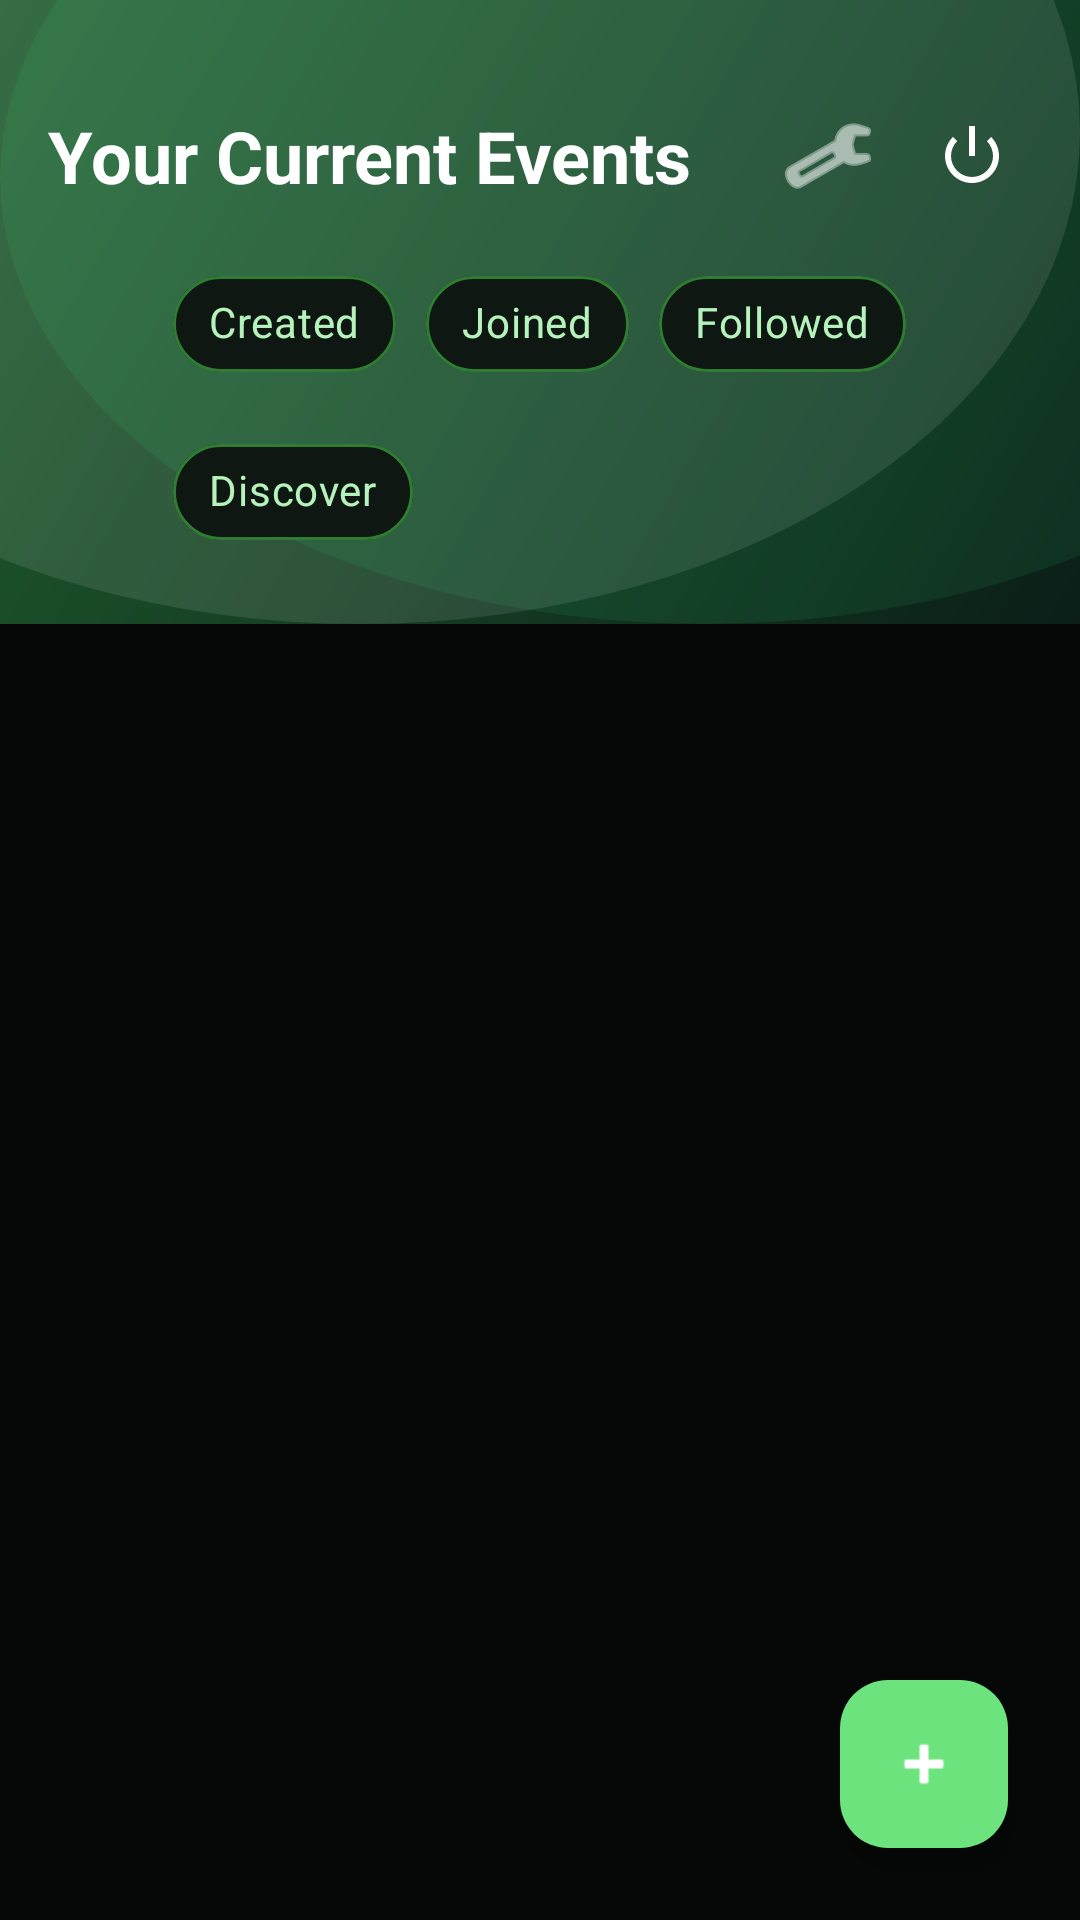

Named icons in this screenshot (1080x1920) and their bounding boxes, [x1=x1, y1=y1, x2=x2, y2=y2]:
Account options: [x1=785, y1=123, x2=871, y2=189]
Add Event: [x1=840, y1=1680, x2=1008, y2=1848]
